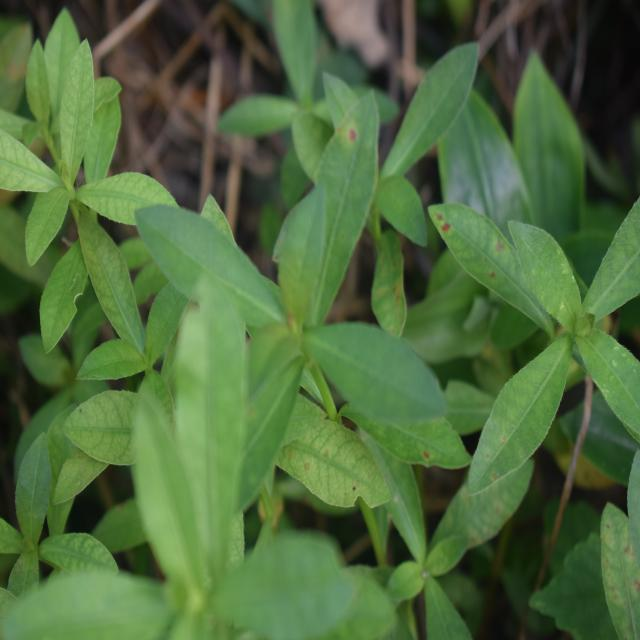Alligatorweed: (445, 179, 640, 502), (9, 28, 166, 300)
